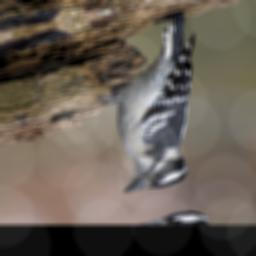Woodpecker: (58, 7, 251, 199)
